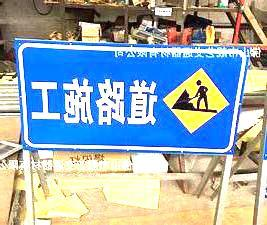sign: (17, 39, 236, 152)
